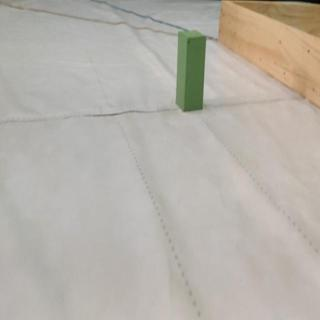greenbox: (176, 27, 207, 113)
